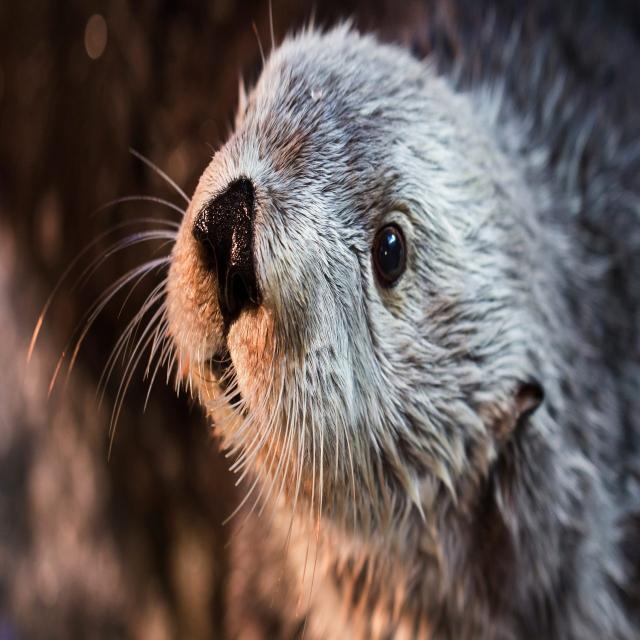Otter: (134, 18, 640, 640)
